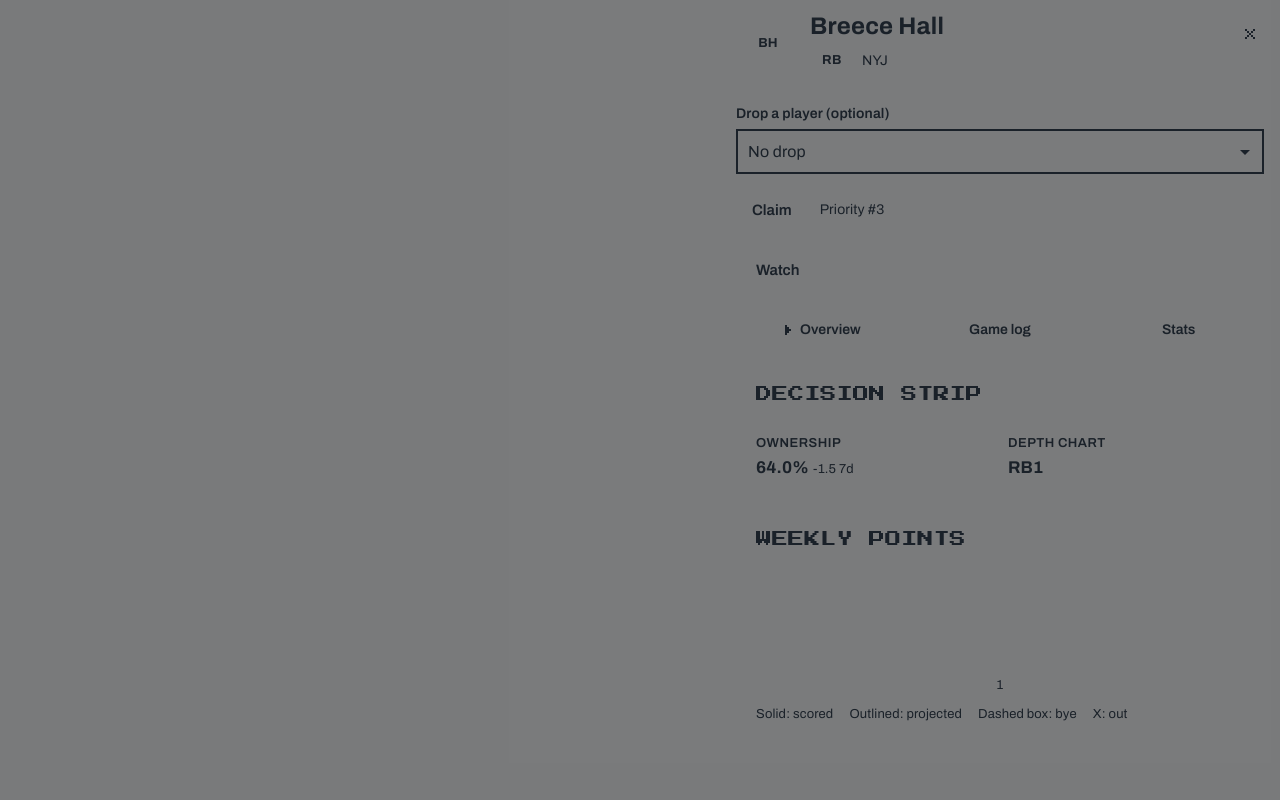
Test case: the Season summary and Season pick render in the waivers context too, not only my_team
This screenshot has width=1280, height=800.
Click the tab "Stats": point(1179, 330) [1093,308,1264,352]
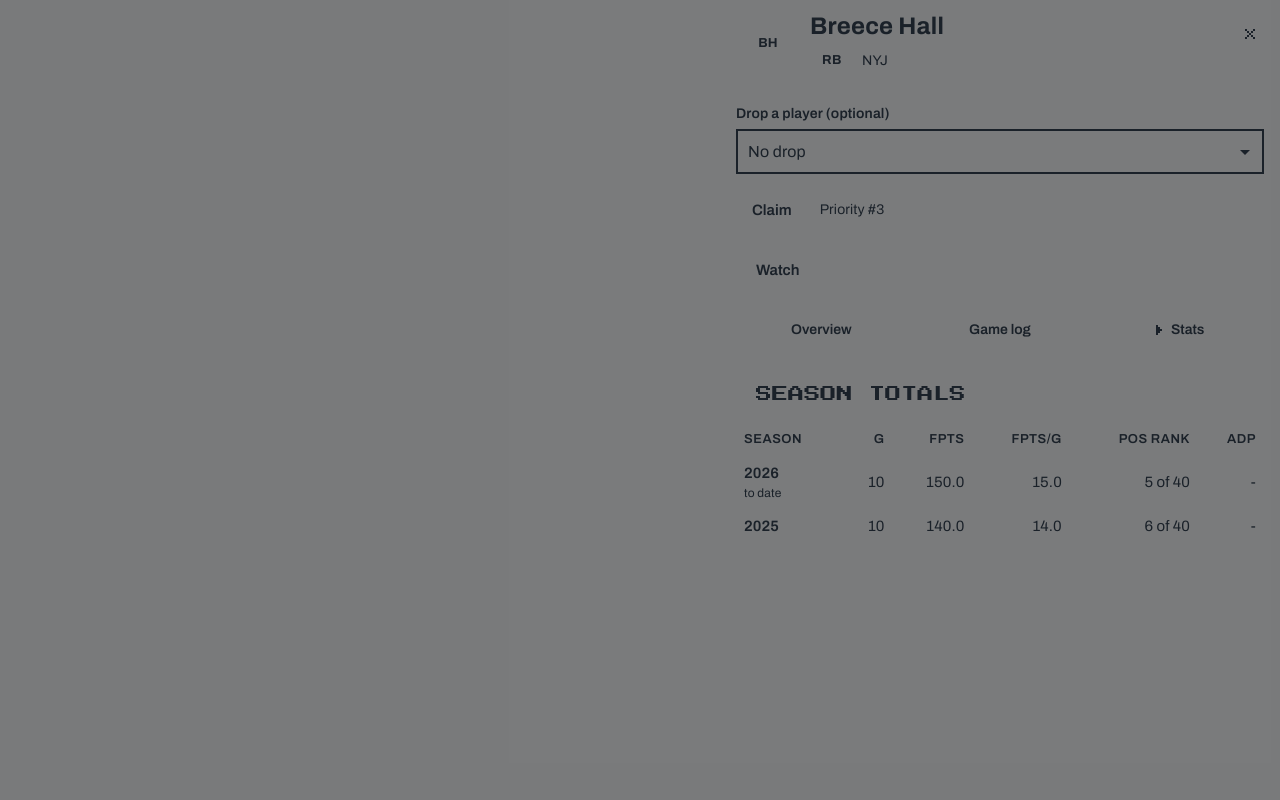
Check: the table with test id "decision-card-seasons" is shown, box [736,420,1264,548]
Click the tab "Game log": point(1000, 330) [915,308,1085,352]
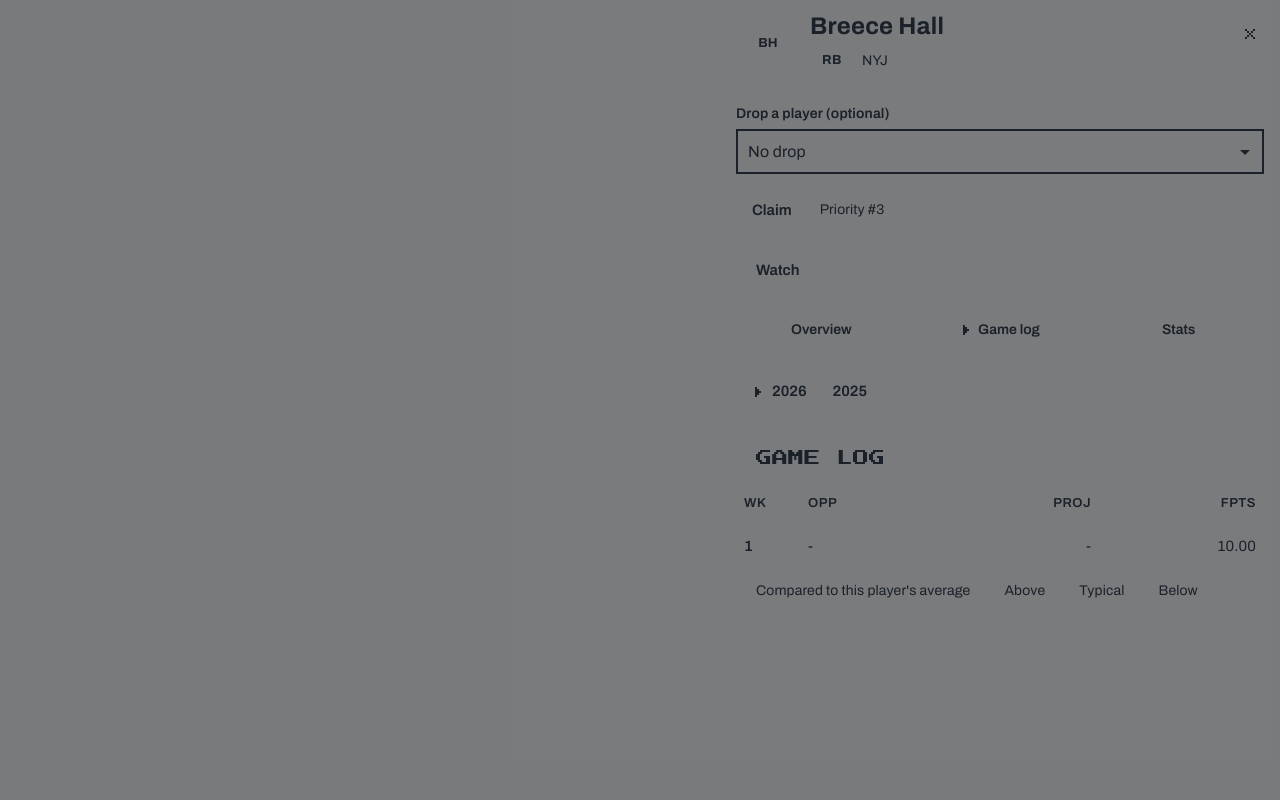
Check: the element named "Season" is shown, box [736,368,883,416]
